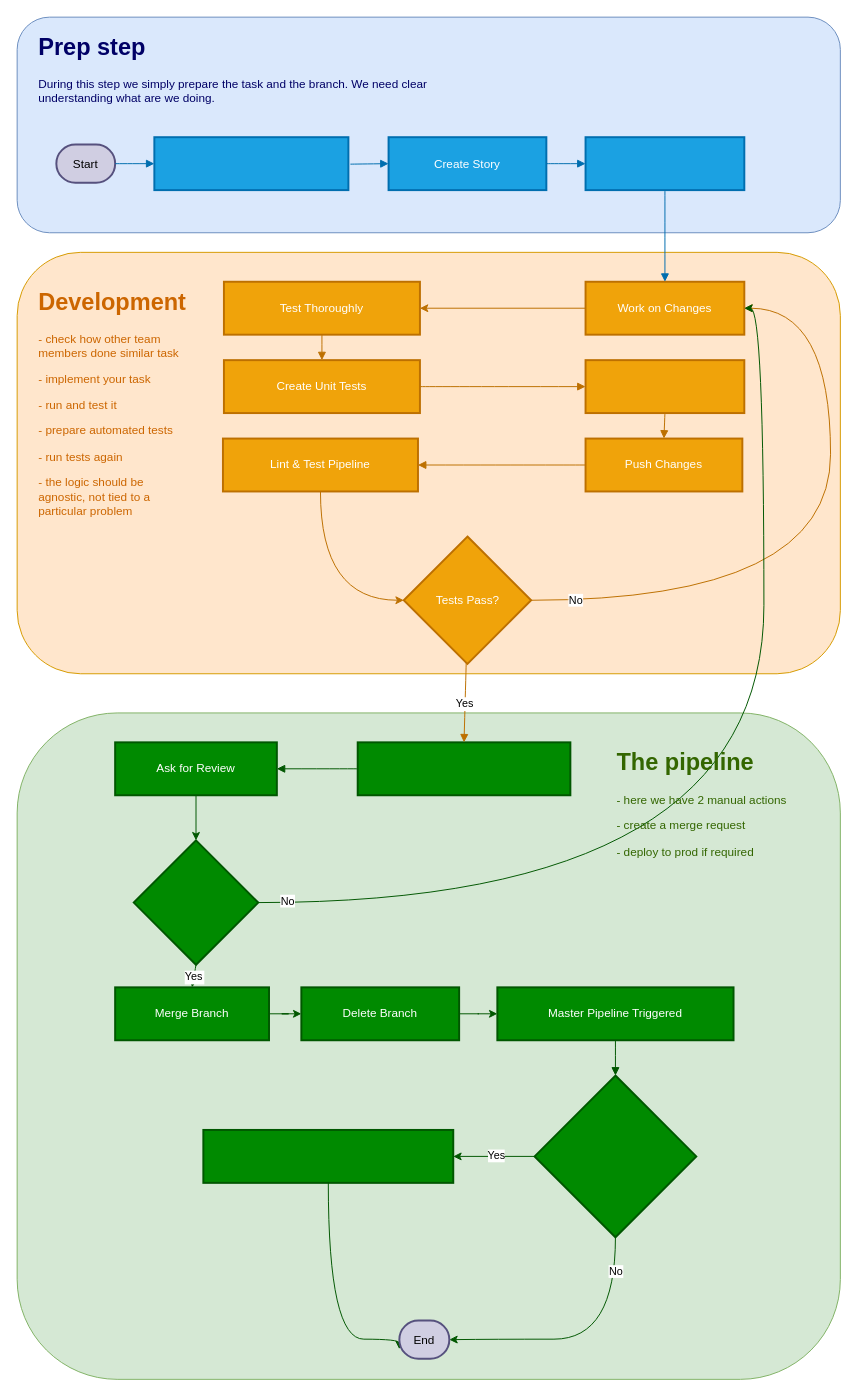
Image size: 858x1397. Some labels were removed from this diagram. The centre of each missing label's shape, as x and y in pixels:
"Approved?" goes at (x=195, y=902).
"Create Branch" goes at (x=664, y=163).
"Create Integration Tests" goes at (x=664, y=386).
"Create Merge Request" goes at (x=463, y=768).
"Deploy to Prod?" goes at (x=615, y=1156).
"Discuss/Decide Task" goes at (x=251, y=163).
"Manual Deployment Trigger" goes at (x=328, y=1155).
